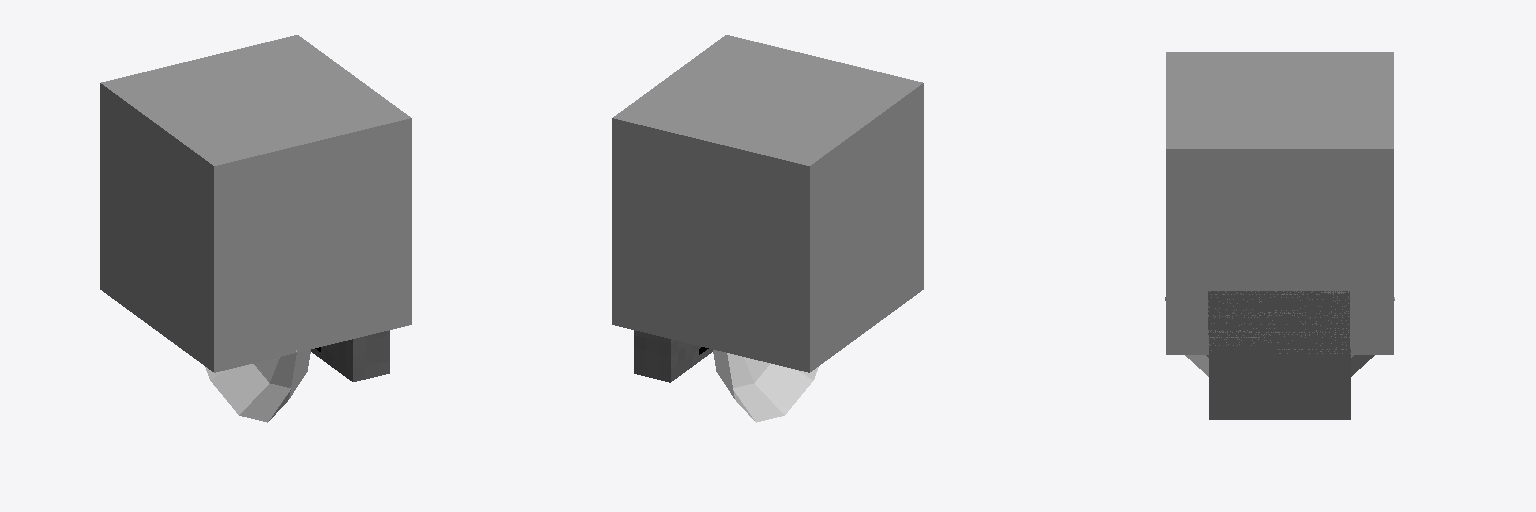
3 views of the same model, side by side, from view 1: azimuth 30°, elevation 25°; view 2: azimuth 150°, elevation 25°; view 3: azimuth 270°, elevation 25° (orthographic).
Visible parts, largest first — view 1: Minecraft_Block_Cube, main, Minecraft_2_Edge_Connectivity_Cube.002; view 2: Minecraft_Block_Cube, Minecraft_2_Edge_Connectivity_Cube.002, main; view 3: Minecraft_Block_Cube, main.
Part boxes in pixels (bbox=[...]): Minecraft_Block_Cube: bbox=[100, 35, 411, 372]; main: bbox=[205, 330, 389, 422]; Minecraft_2_Edge_Connectivity_Cube.002: bbox=[215, 246, 408, 372]; Minecraft_Block_Cube: bbox=[612, 35, 923, 372]; Minecraft_2_Edge_Connectivity_Cube.002: bbox=[613, 246, 808, 372]; main: bbox=[634, 330, 818, 422]; Minecraft_Block_Cube: bbox=[1166, 52, 1393, 354]; main: bbox=[1165, 291, 1394, 419].
Size of the model in its own units: 1 by 1.5 by 1.01.
2 materials, 1 textured.